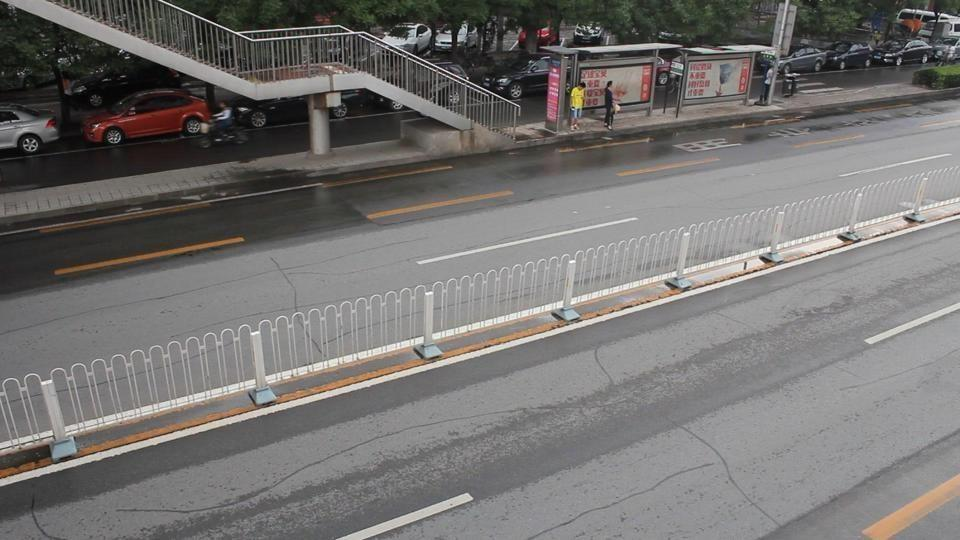car: (80, 89, 214, 147), (68, 68, 183, 110), (479, 55, 556, 100), (0, 105, 60, 156), (384, 23, 433, 55), (879, 40, 935, 67), (820, 43, 874, 70), (780, 47, 825, 74), (934, 41, 960, 63), (432, 34, 453, 54)
